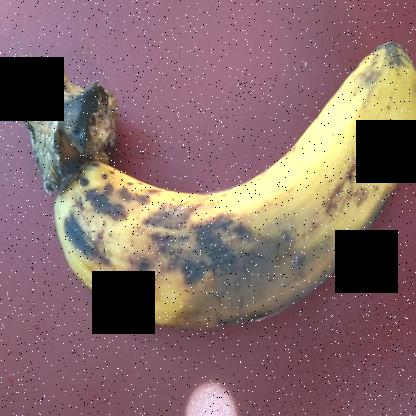overripe: (32, 18, 416, 333)
rotten: (162, 195, 361, 369)
